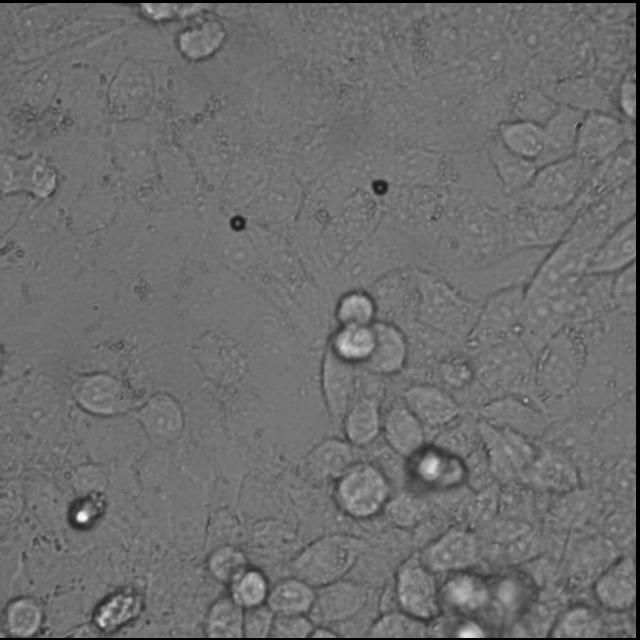microbeads: (228, 210, 246, 232), (374, 176, 386, 198)
